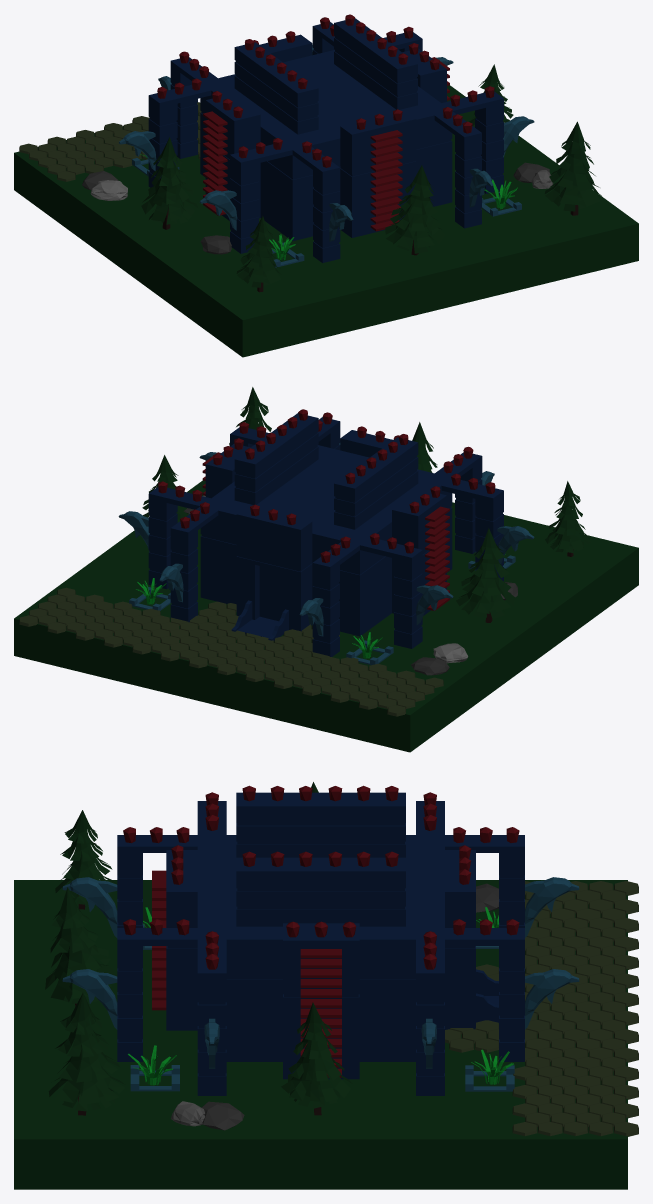
File: NightClub.FBX
3 renders of one model, top to bottom at view 1: azimuth 30°, elevation 25°; view 2: azimuth 150°, elevation 25°; view 3: azimuth 270°, elevation 25°, orthographic. The views are drawn at different scales.
Parts seen in each view (by area): view 1: NightClub; view 2: NightClub; view 3: NightClub.
Boxes of the visible parts, box(x1,y1,x2,y2) form: NightClub: box(14, 14, 638, 357); NightClub: box(14, 387, 638, 752); NightClub: box(14, 782, 638, 1189).
Bounding box in the file's own units: 10000 × 4330 × 10180.
